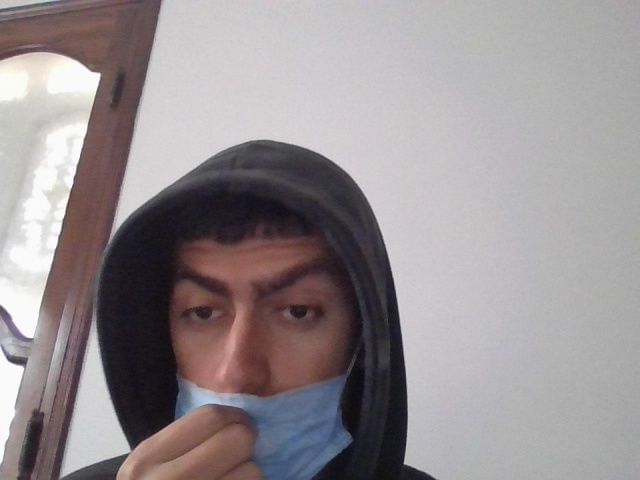mask_weared_incorrect: (136, 201, 372, 480)
